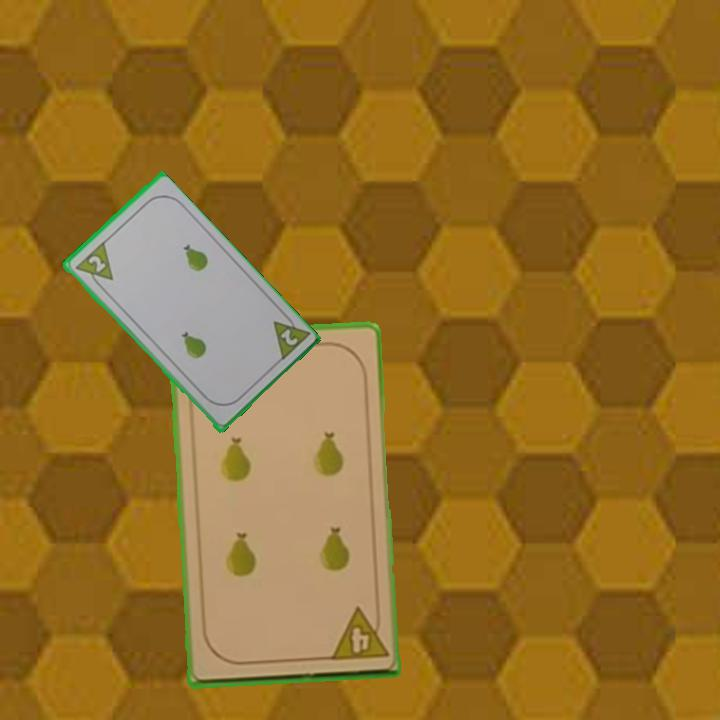2p: (269, 307, 311, 365), (71, 239, 116, 292)
4p: (326, 604, 391, 664)
